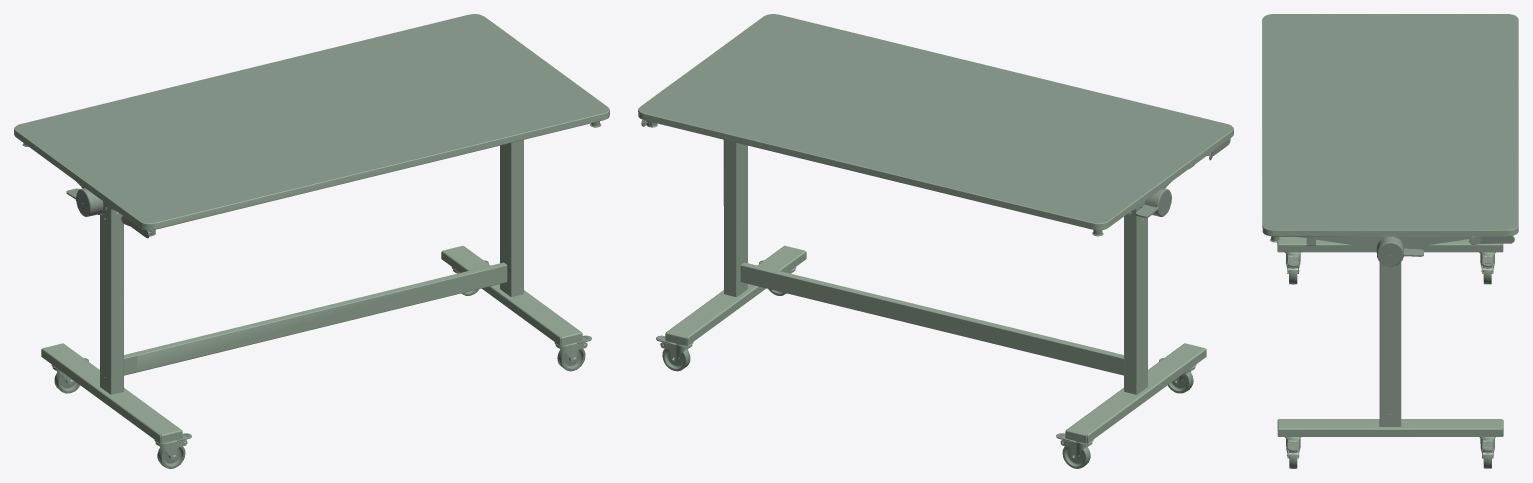
The model's file is MITTZON_80527951.glb.
3 views of the same model, side by side, from view 1: azimuth 30°, elevation 25°; view 2: azimuth 150°, elevation 25°; view 3: azimuth 270°, elevation 25° (orthographic). The views are drawn at different scales.
Parts seen in each view (by area): view 1: 80527951-MITTZON001; view 2: 80527951-MITTZON001; view 3: 80527951-MITTZON001.
Boxes of the visible parts, bbox=[...] form: 80527951-MITTZON001: bbox=[14, 14, 609, 468]; 80527951-MITTZON001: bbox=[638, 14, 1233, 468]; 80527951-MITTZON001: bbox=[1262, 14, 1518, 468].
Bounding box in the file's own units: 1.4 × 0.7544 × 0.7001.
Materials: 1 (1 with a texture image).
